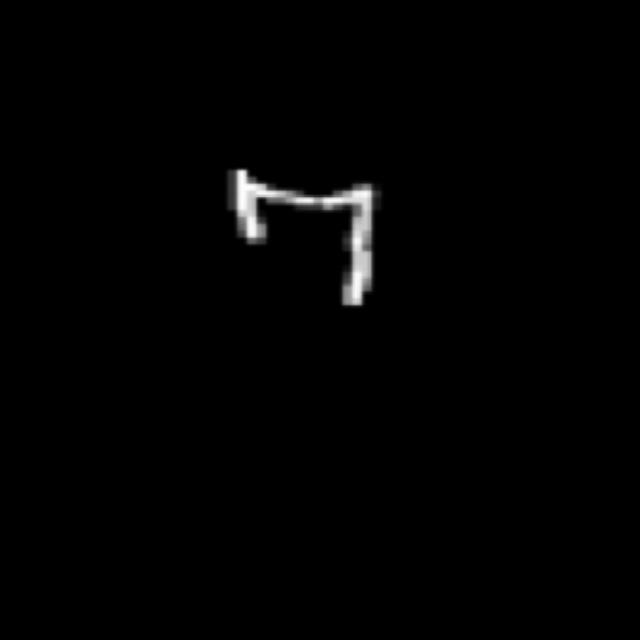two -2-: (217, 164, 398, 316)
